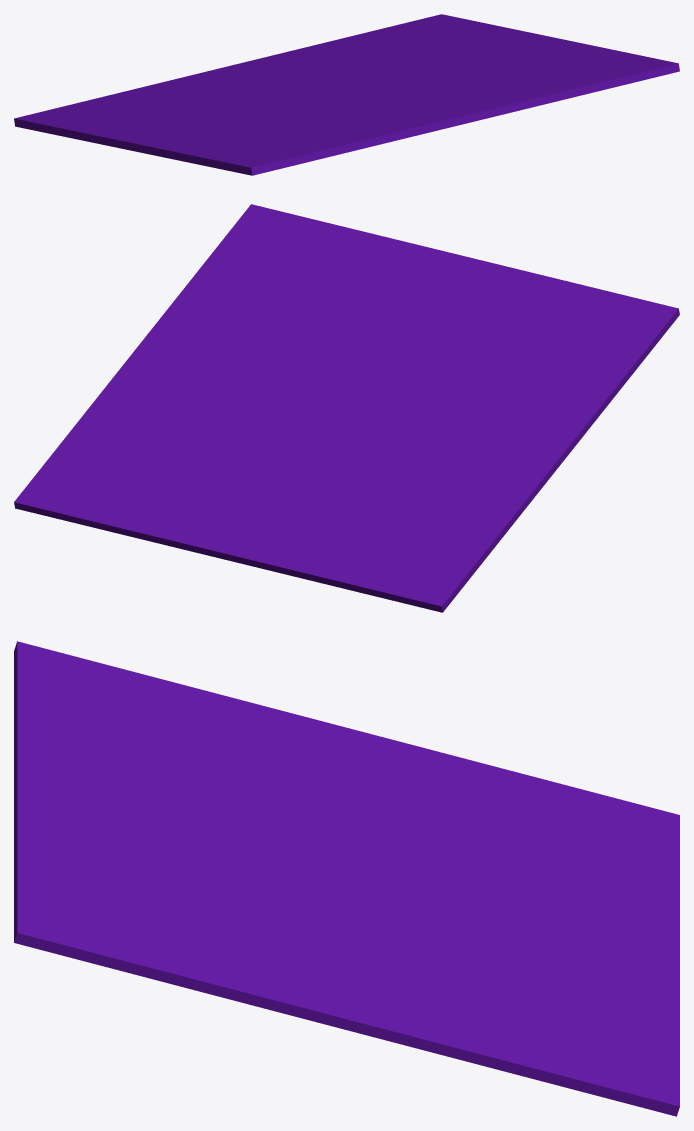
Rendered from MemorialFrame_chunks.fbx.
3 renders of one model, top to bottom at view 1: azimuth 30°, elevation 25°; view 2: azimuth 150°, elevation 25°; view 3: azimuth 270°, elevation 25°, orthographic. The views are drawn at different scales.
Parts seen in each view (by area): view 1: MemorialFrame_3.012, MemorialFrame_1, MemorialFrame_0; view 2: MemorialFrame_1, MemorialFrame_0, MemorialFrame_3.012; view 3: MemorialFrame_1, MemorialFrame_3.012, MemorialFrame_0.
Part boxes in pixels (<box>): MemorialFrame_3.012: <box>160,68,657,175</box>; MemorialFrame_1: <box>302,14,679,90</box>; MemorialFrame_0: <box>14,48,346,156</box>; MemorialFrame_1: <box>14,204,344,542</box>; MemorialFrame_0: <box>154,405,589,612</box>; MemorialFrame_3.012: <box>272,209,679,427</box>; MemorialFrame_1: <box>14,875,679,1116</box>; MemorialFrame_3.012: <box>14,641,349,925</box>; MemorialFrame_0: <box>271,708,679,1010</box>.
Size of the model in its own units: 503 by 148 by 485.
